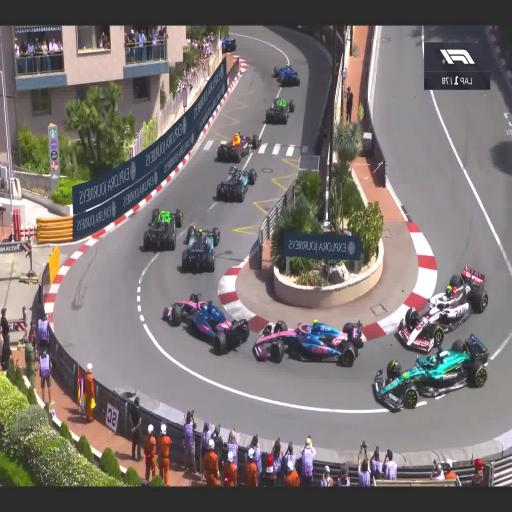f1_car: (374, 334, 489, 410), (397, 267, 489, 353), (163, 293, 250, 353), (253, 320, 364, 366), (182, 225, 220, 271), (144, 208, 183, 250), (217, 166, 257, 202), (218, 133, 262, 162), (266, 98, 295, 124), (274, 65, 300, 86), (222, 37, 237, 52)
